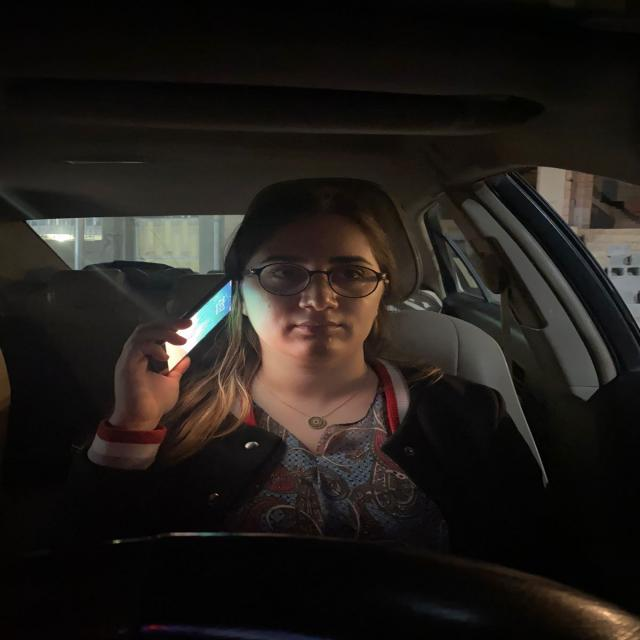mobile: (153, 271, 244, 379)
person: (253, 180, 376, 360)
